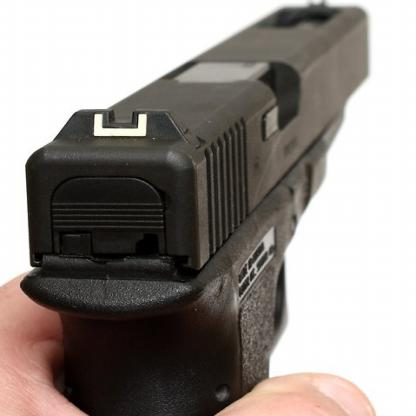gun: (16, 0, 375, 415)
